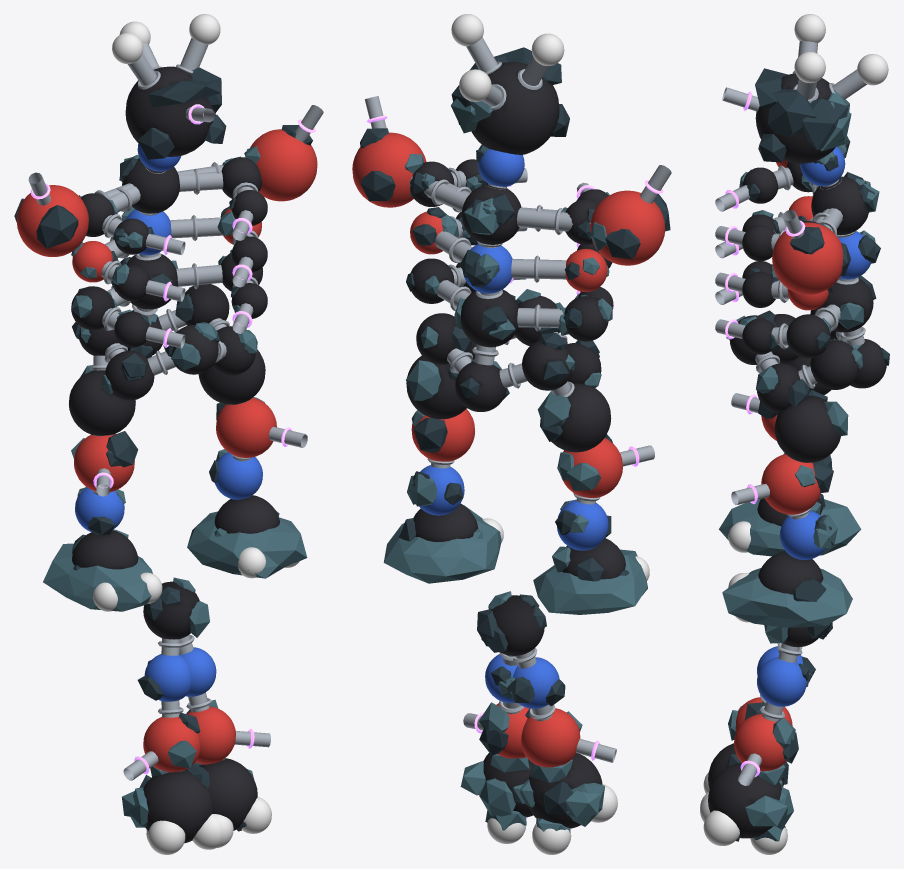
File: colossus.glb
The picture shows the model from 3 angles, left to right: view 1: azimuth 30°, elevation 25°; view 2: azimuth 150°, elevation 25°; view 3: azimuth 270°, elevation 25°; orthographic projection. The views are drawn at different scales.
Parts seen in each view (by area): view 1: col_body, col_armL, col_armR; view 2: col_body, col_armL, col_armR; view 3: col_body, col_armR, col_armL.
Part boxes in pixels (<box>): col_body: <box>14,14,323,611</box>; col_armL: <box>122,577,220,854</box>; col_armR: <box>145,597,271,847</box>; col_body: <box>352,14,671,614</box>; col_armL: <box>481,591,617,854</box>; col_armR: <box>460,605,546,843</box>; col_body: <box>715,14,889,627</box>; col_armR: <box>700,622,832,854</box>; col_armL: <box>700,623,832,808</box>.
Size of the model in its own units: 4.74 by 12.46 by 2.65.
